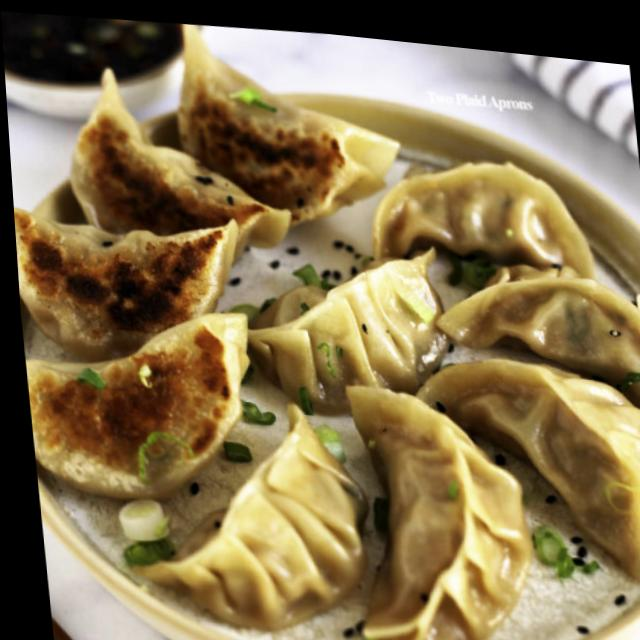fried_dumplings: (122, 384, 380, 640), (413, 343, 640, 591), (19, 291, 265, 511), (336, 377, 539, 640), (166, 17, 408, 234), (56, 54, 293, 261), (238, 225, 458, 426), (13, 197, 251, 368), (428, 256, 640, 435), (365, 144, 607, 288)
